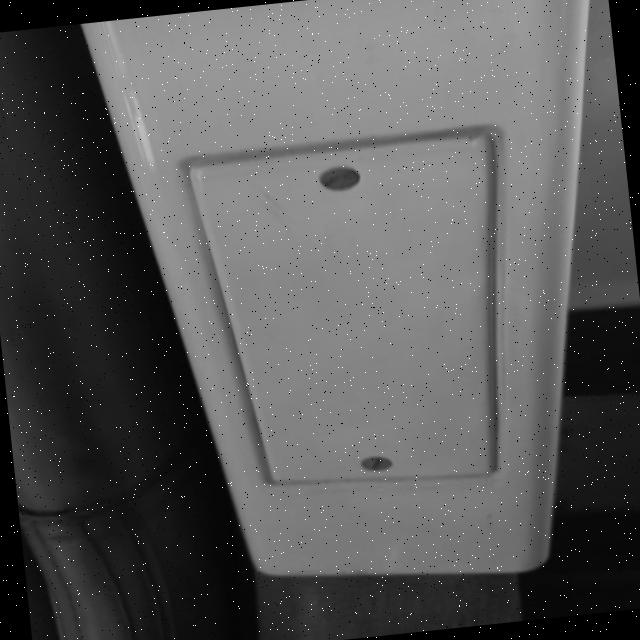Slotted: (314, 164, 362, 194), (351, 452, 393, 476)
